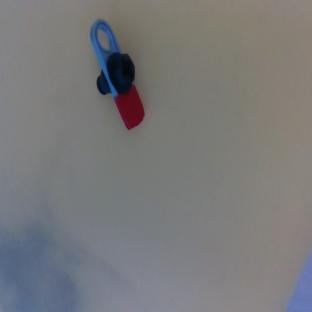part_1_good: (84, 14, 147, 134)
